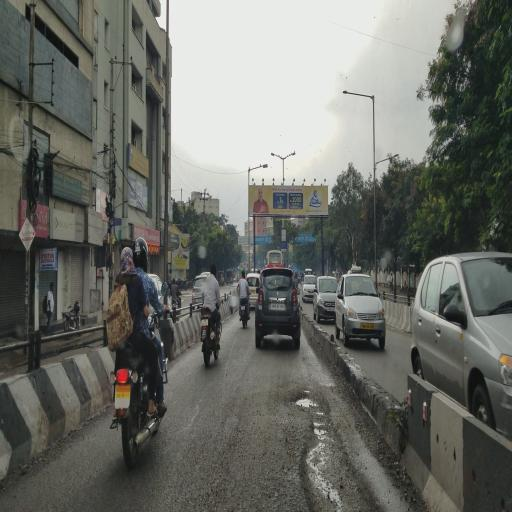street_light_0: (337, 78, 374, 110), (246, 156, 273, 182), (264, 147, 284, 164), (282, 148, 301, 164)
